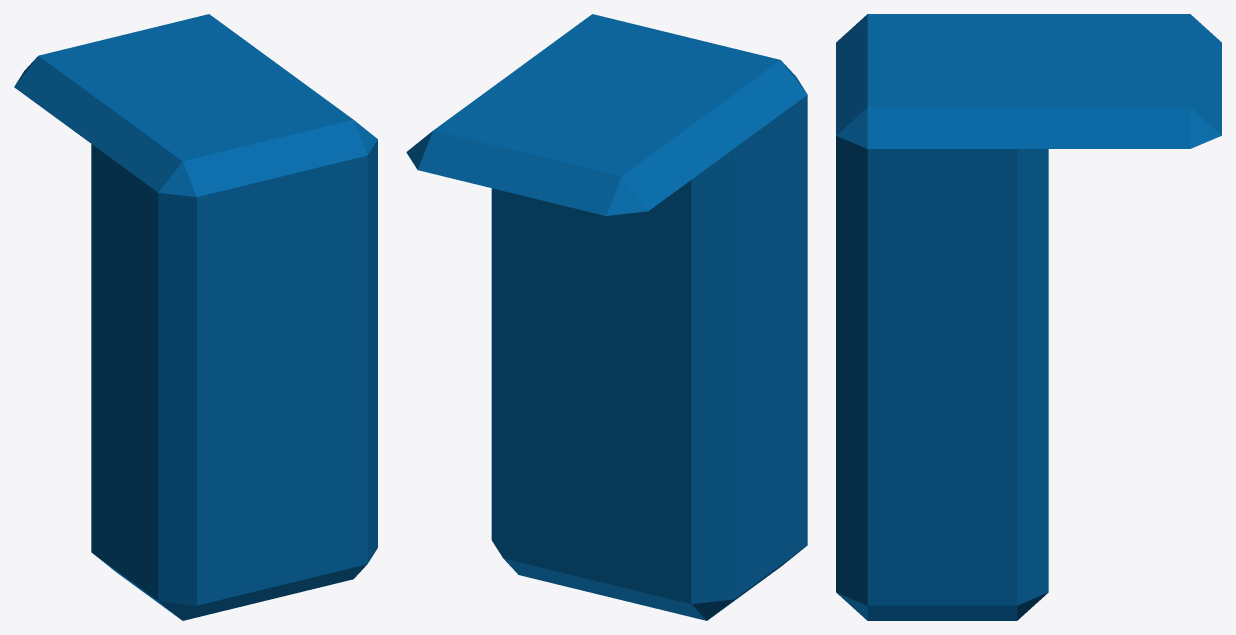
File: barrier_02.glb
3 views of the same model, side by side, from view 1: azimuth 30°, elevation 25°; view 2: azimuth 150°, elevation 25°; view 3: azimuth 270°, elevation 25° (orthographic). The views are drawn at different scales.
Parts seen in each view (by area): view 1: beveled_cuboid; view 2: beveled_cuboid; view 3: beveled_cuboid.
Boxes of the visible parts, x1=… form: beveled_cuboid: x1=14, y1=14, x2=377, y2=620; beveled_cuboid: x1=406, y1=14, x2=807, y2=620; beveled_cuboid: x1=836, y1=14, x2=1221, y2=620.
Bounding box in the file's own units: 2.25 × 4.5 × 3.06.
Materials: 1 (1 with a texture image).
